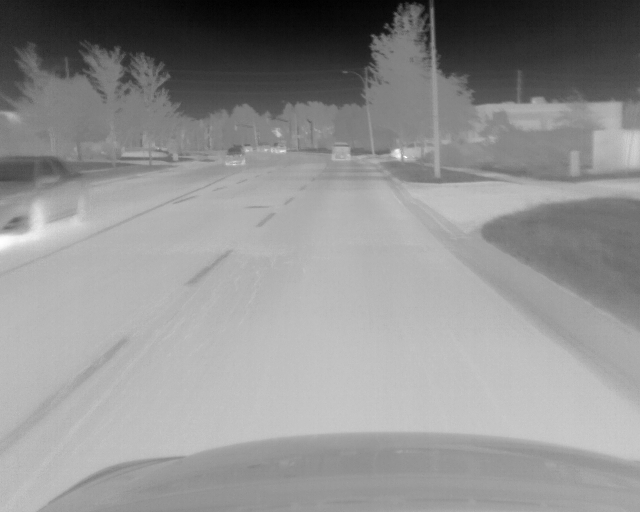car: (2, 155, 85, 237), (390, 140, 433, 160), (224, 146, 247, 167), (331, 142, 351, 161), (271, 141, 286, 154), (256, 142, 269, 154)
